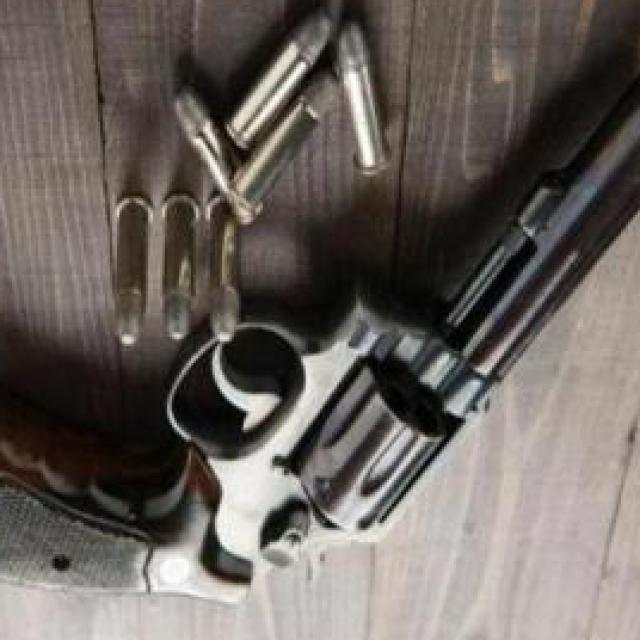pistol: (0, 71, 640, 606)
